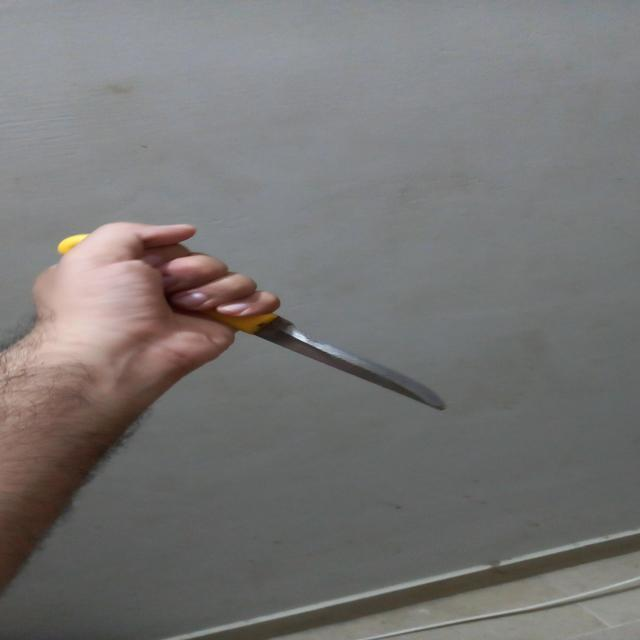knife: (61, 234, 449, 411)
